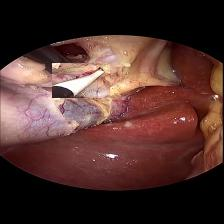Hook: (52, 62, 110, 97)
